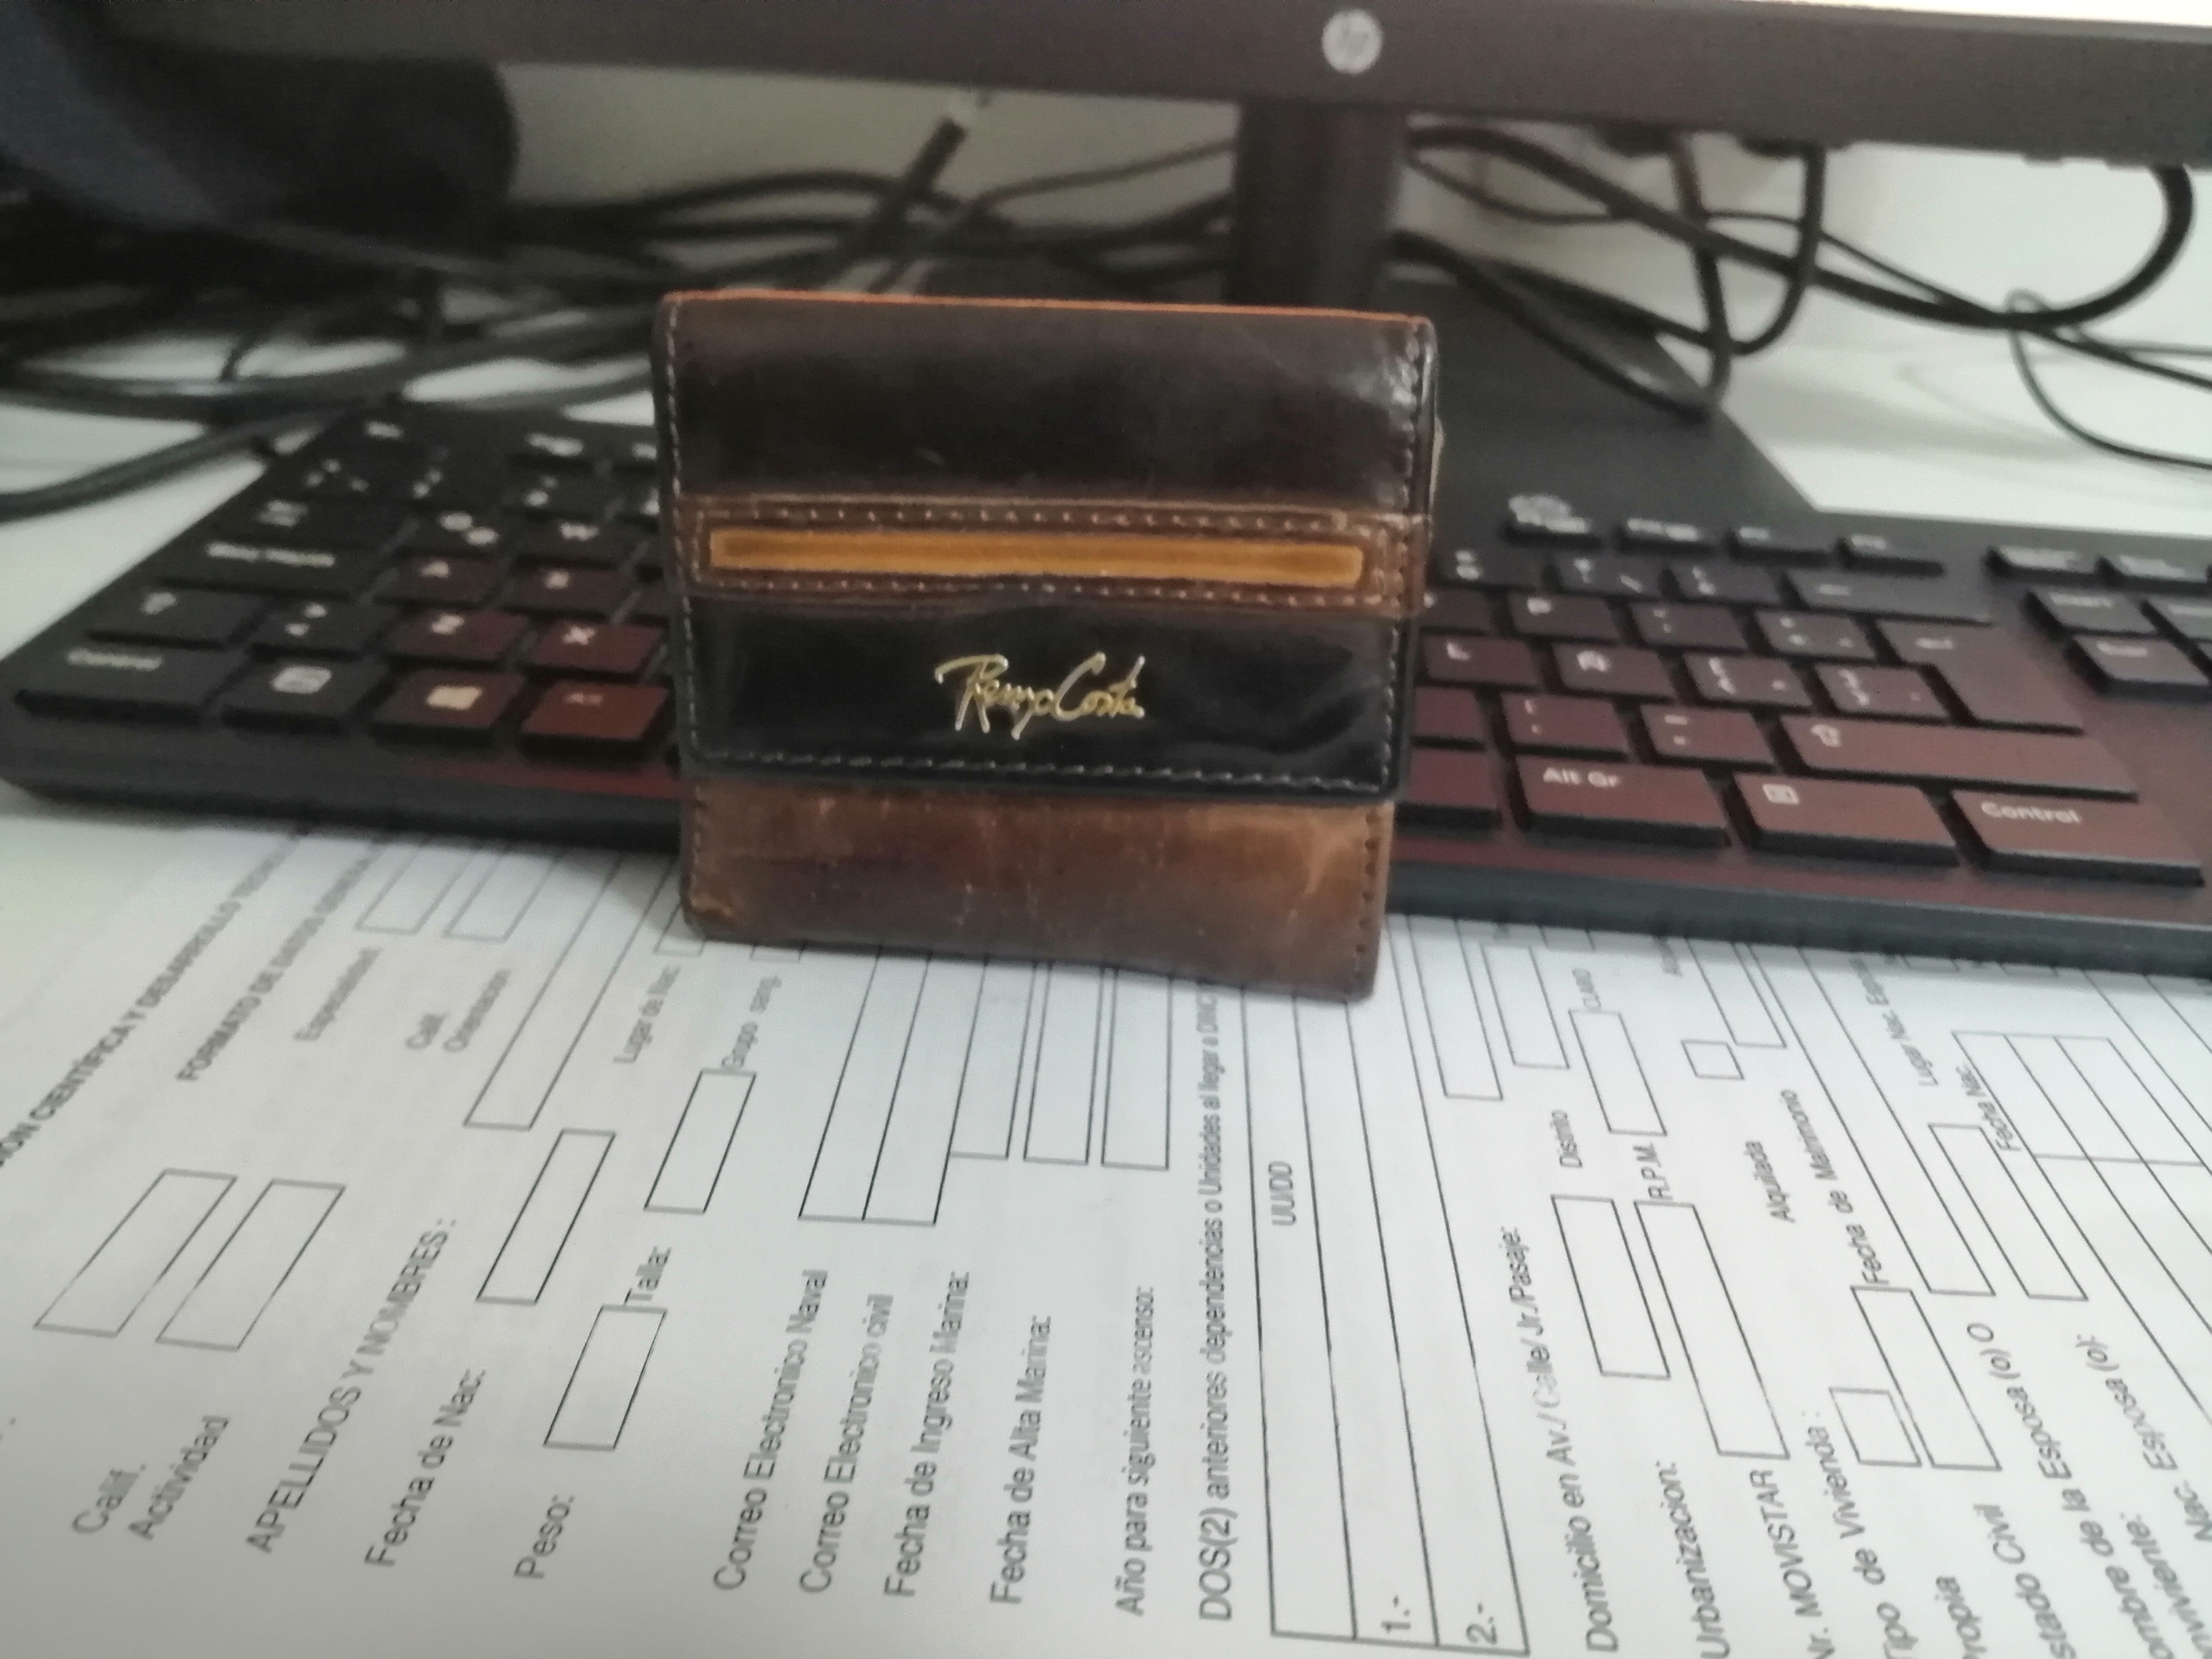monedero: (627, 274, 1453, 1025)
